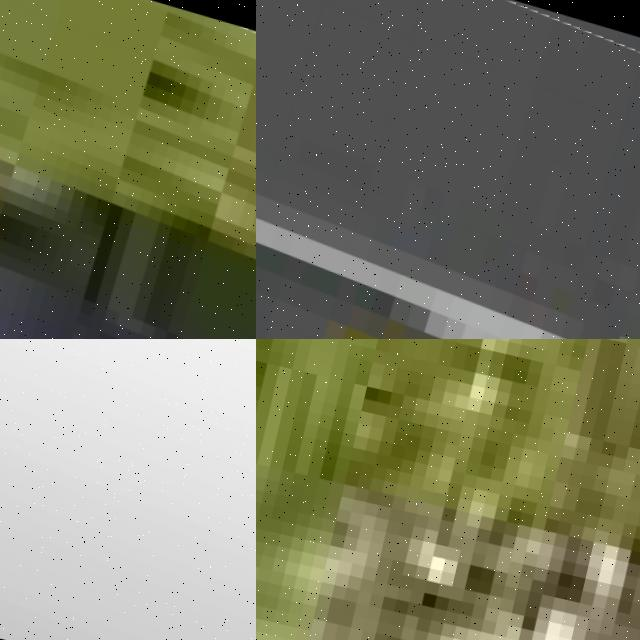0: (0, 0, 256, 339)
drone: (256, 0, 640, 339), (0, 339, 256, 640)
